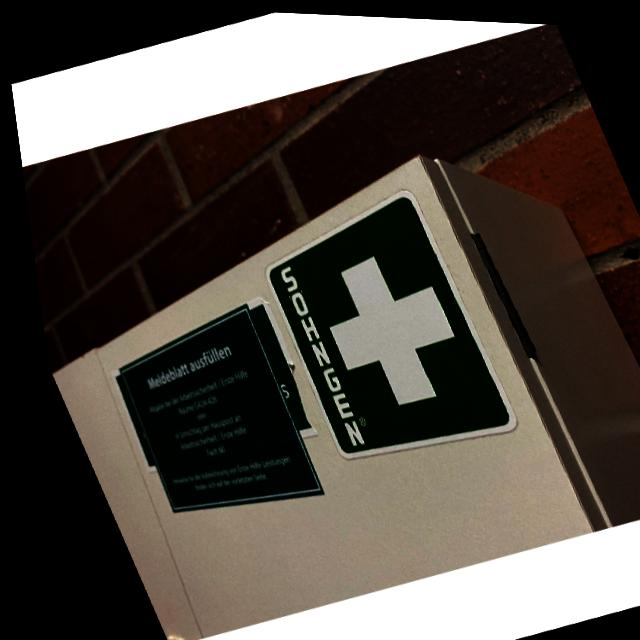first aid kit: (235, 178, 512, 476)
